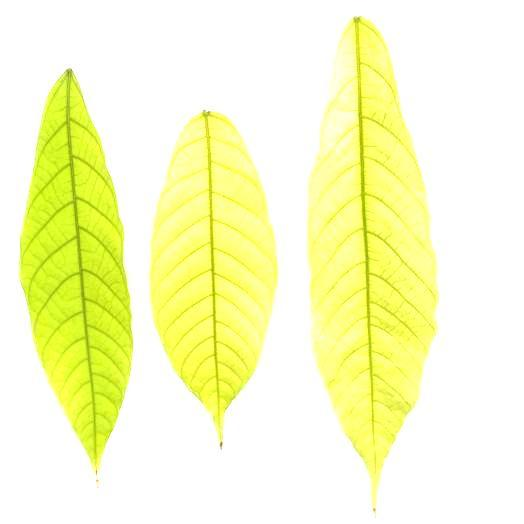Iron: (308, 17, 437, 508), (20, 69, 132, 470), (150, 112, 276, 445)
